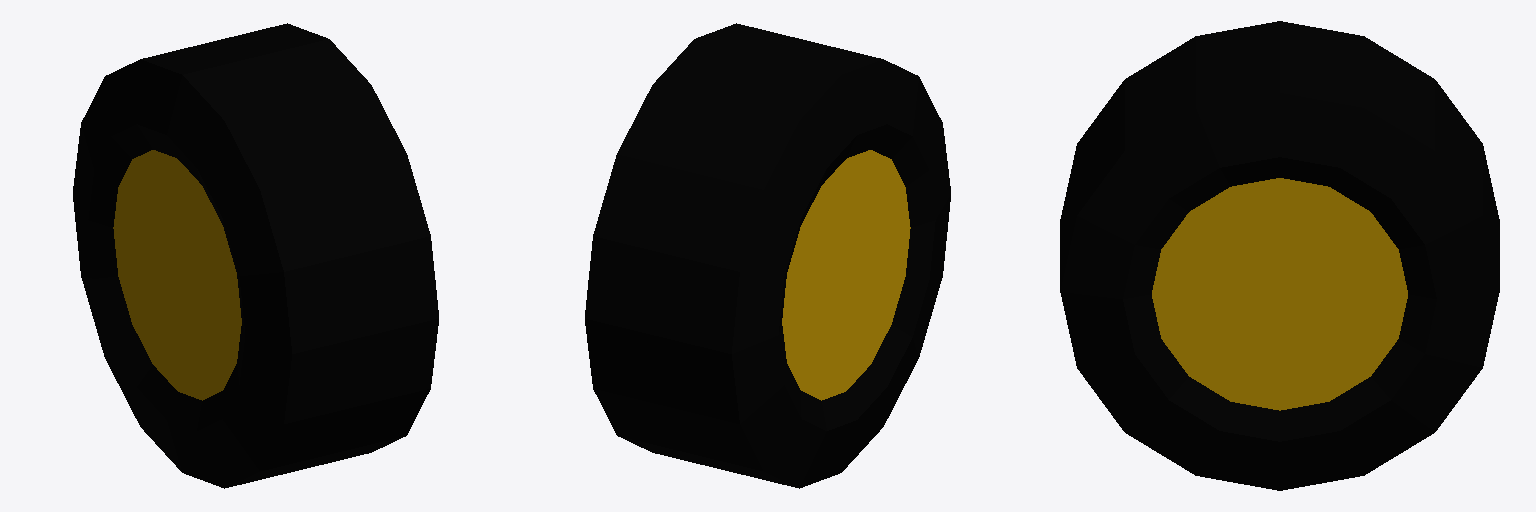
File: truck_1_1_wheel.obj
3 renders of one model, left to right at view 1: azimuth 30°, elevation 25°; view 2: azimuth 150°, elevation 25°; view 3: azimuth 270°, elevation 25°, orthographic.
Parts seen in each view (by area): view 1: Cylinder.001_Cylinder.003; view 2: Cylinder.001_Cylinder.003; view 3: Cylinder.001_Cylinder.003.
Boxes of the visible parts, <box> form: Cylinder.001_Cylinder.003: <box>73,23,438,488</box>; Cylinder.001_Cylinder.003: <box>585,23,950,488</box>; Cylinder.001_Cylinder.003: <box>1060,21,1499,490</box>.
Bounding box in the file's own units: 1.77 × 3.77 × 3.77.